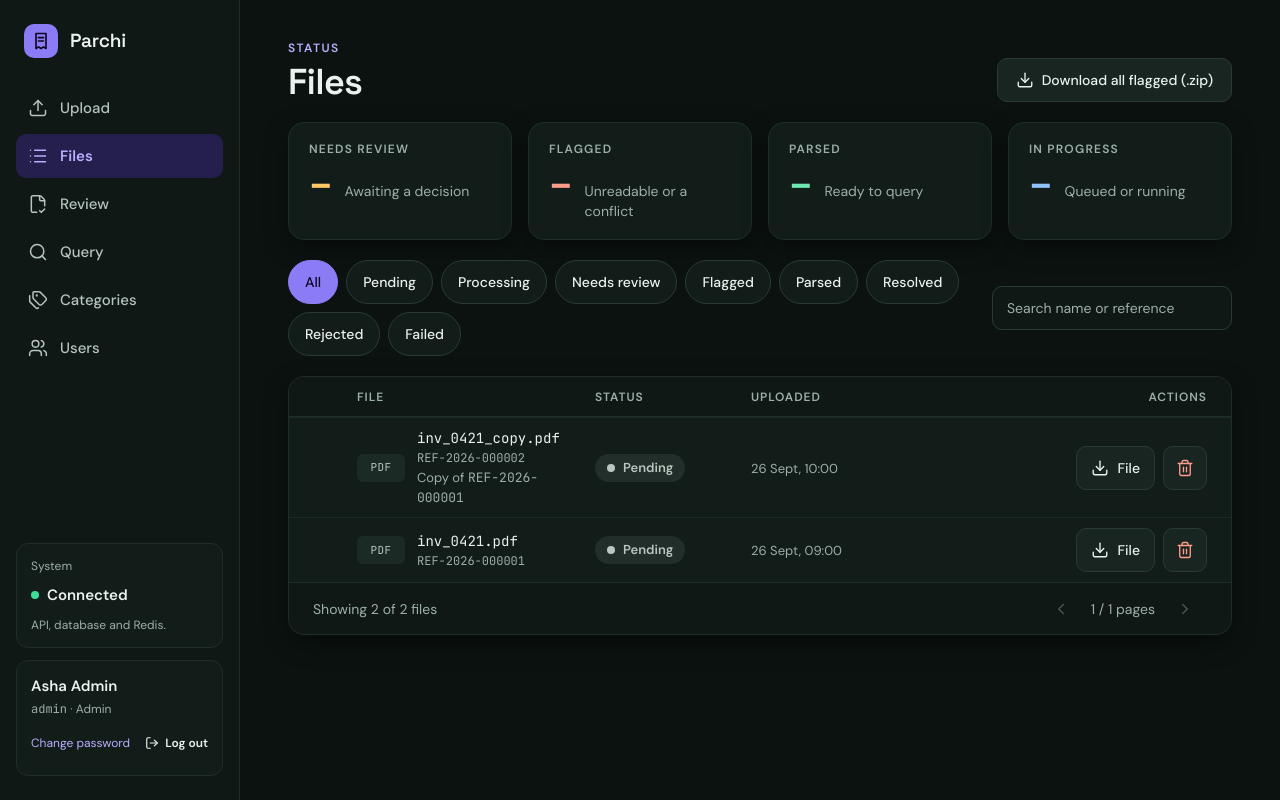
Test: deleting a file › shows why a delete was refused and keeps the dialog open
Click the button named "Delete inv_0421.pdf" at [1185, 550], box x1=1163 y1=528 x2=1207 y2=572
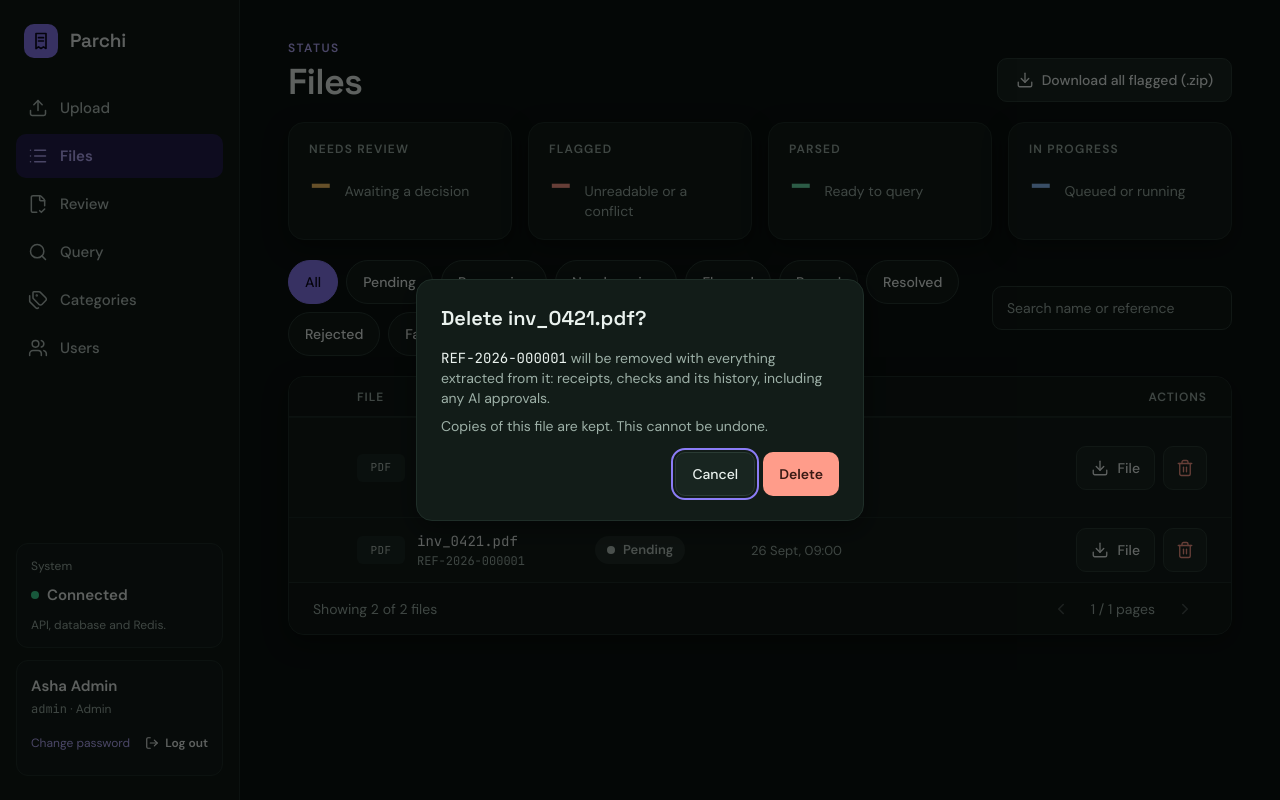
Click the button "Delete" at [801, 474], box x1=763 y1=452 x2=839 y2=496
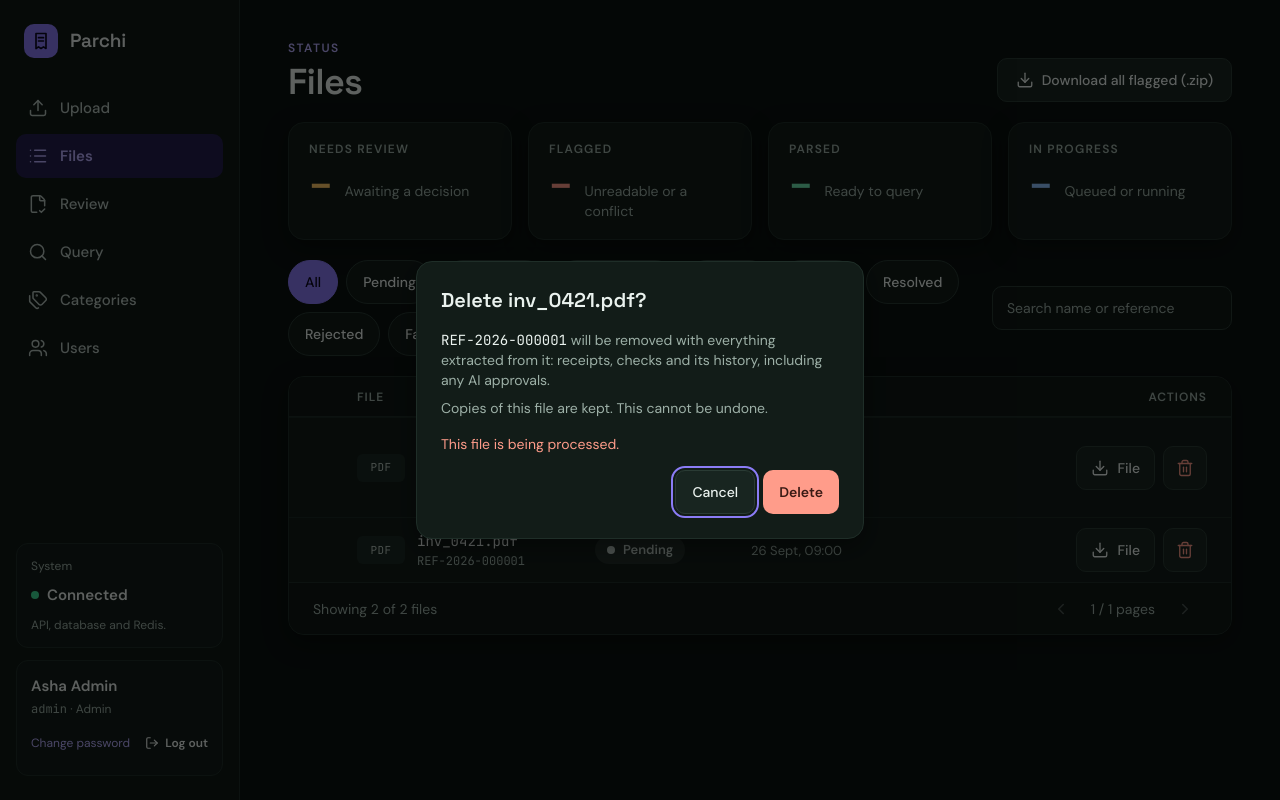
Check: the dialog is shown, box x1=416 y1=261 x2=864 y2=539
Check: the text "This file is being processed." is shown, box x1=441 y1=435 x2=619 y2=453
